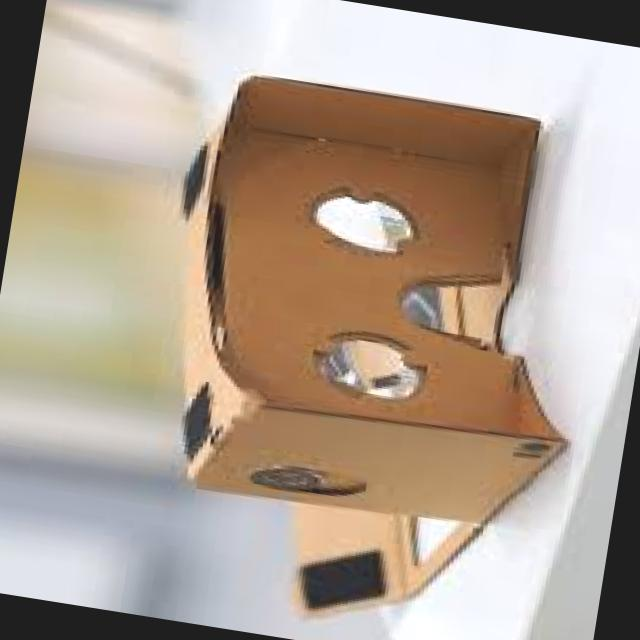cardboard: (185, 76, 564, 615)
